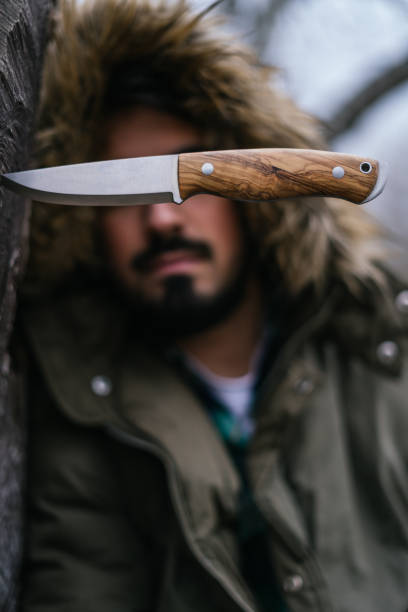knife: (1, 146, 390, 207)
